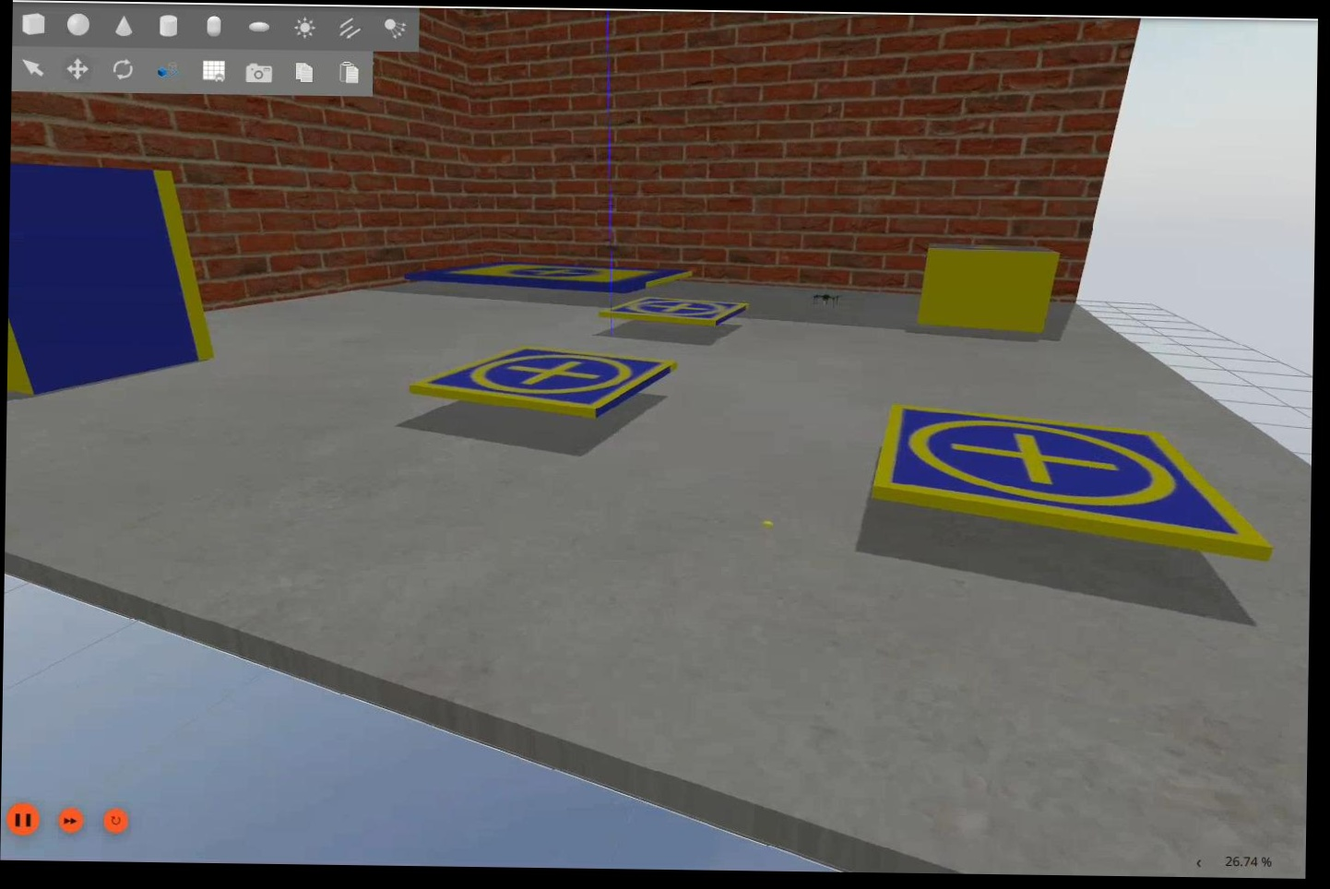large_base: (405, 258, 695, 301)
small_base: (868, 401, 1268, 567), (412, 344, 682, 424), (600, 291, 751, 334)
